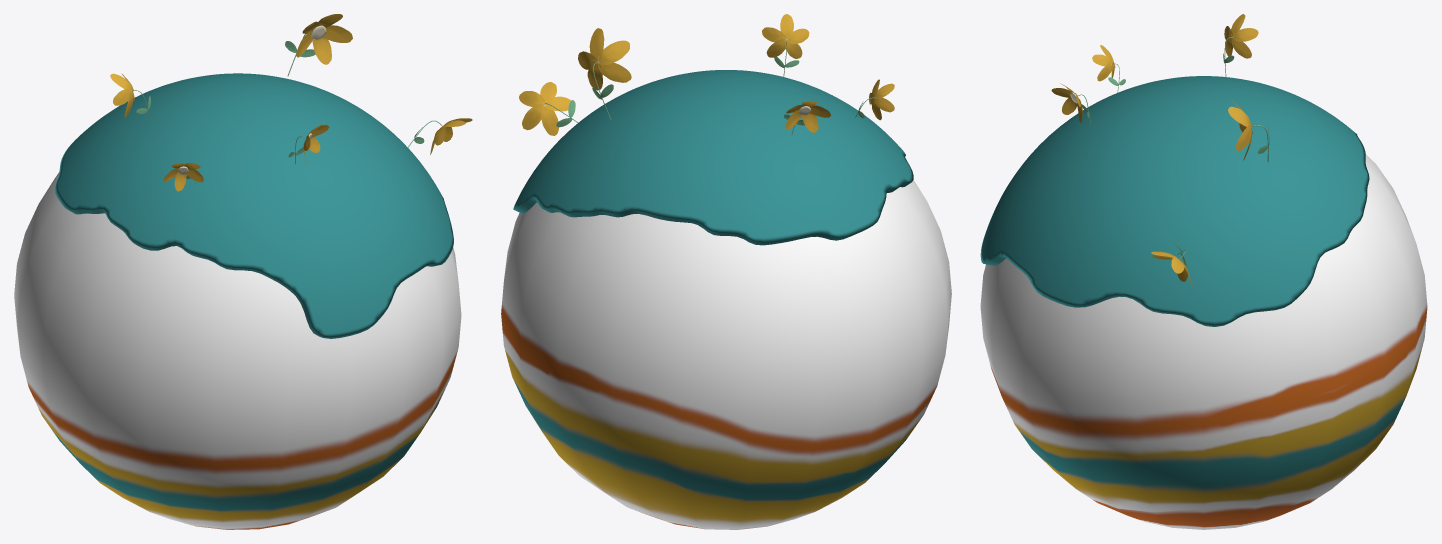
File: planetI.gltf
3 renders of one model, left to right at view 1: azimuth 30°, elevation 25°; view 2: azimuth 150°, elevation 25°; view 3: azimuth 270°, elevation 25°, orthographic.
Parts seen in each view (by area): view 1: planetI; view 2: planetI; view 3: planetI.
Part boxes in pixels (x1,y1,x2,y2): planetI: [14, 14, 472, 529]; planetI: [501, 14, 951, 529]; planetI: [980, 14, 1427, 529].
Bounding box in the file's own units: 2.22 × 2.34 × 2.08.
1 material, 1 textured.
